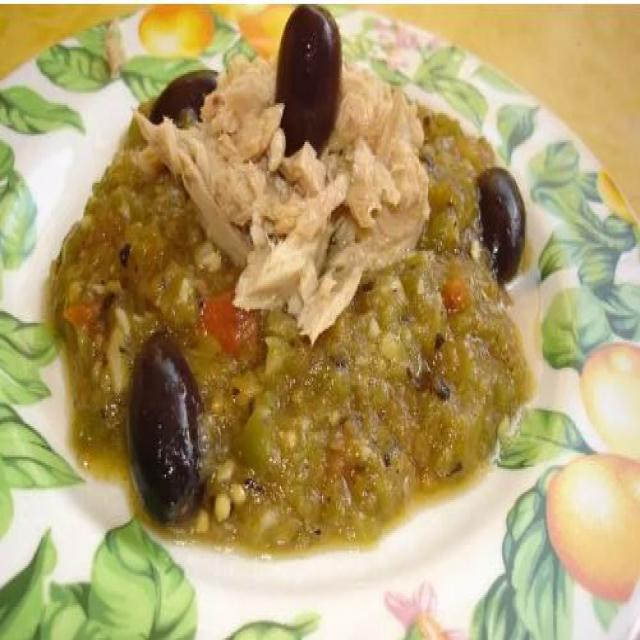Salade mechweya: (45, 3, 593, 529)
